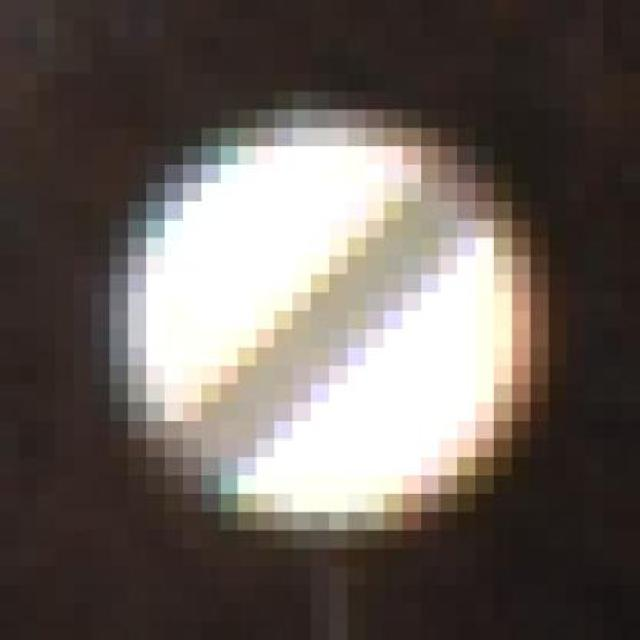End of all speed and passing limits: (73, 73, 567, 549)
